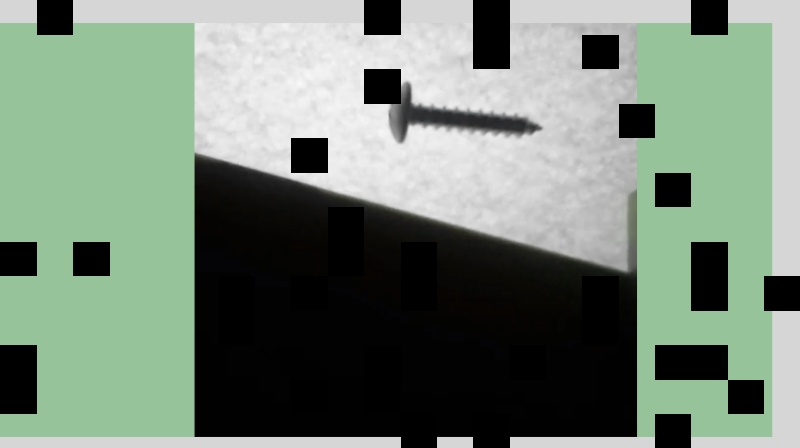S003: (386, 78, 547, 147)
